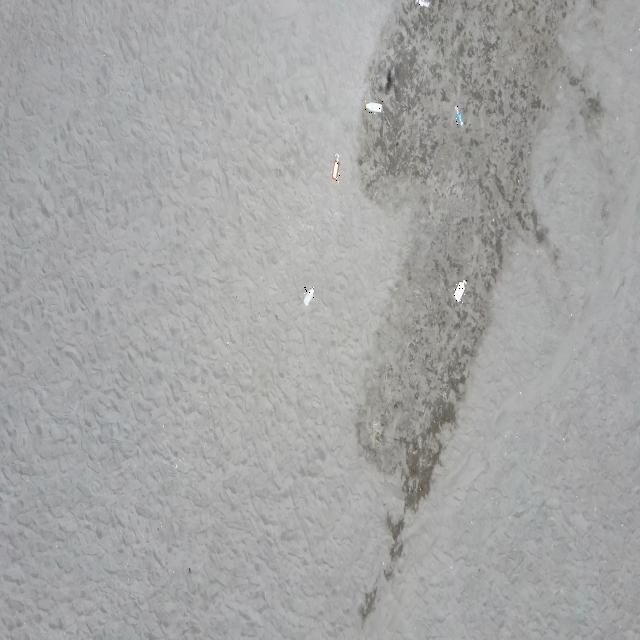Garbage: (452, 280, 466, 300), (364, 101, 382, 111), (331, 154, 337, 180), (303, 287, 312, 304), (455, 104, 462, 125), (415, 0, 430, 5)
